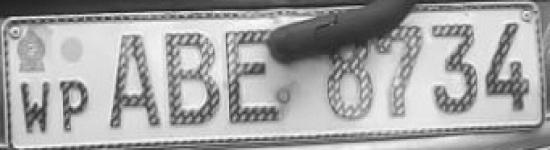3: (428, 18, 482, 117)
4: (484, 14, 536, 114)
7: (378, 15, 424, 121)
8: (322, 15, 378, 124)
A: (104, 30, 165, 130)
B: (164, 28, 223, 130)
E: (222, 27, 290, 131)
P: (57, 76, 95, 139)
W: (16, 80, 56, 138)
